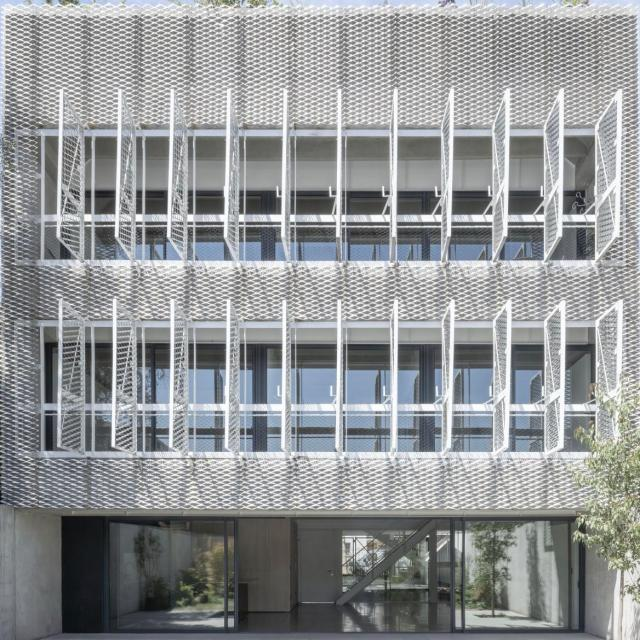window: (49, 344, 596, 451), (61, 187, 588, 260), (102, 518, 241, 636), (451, 522, 585, 631)
